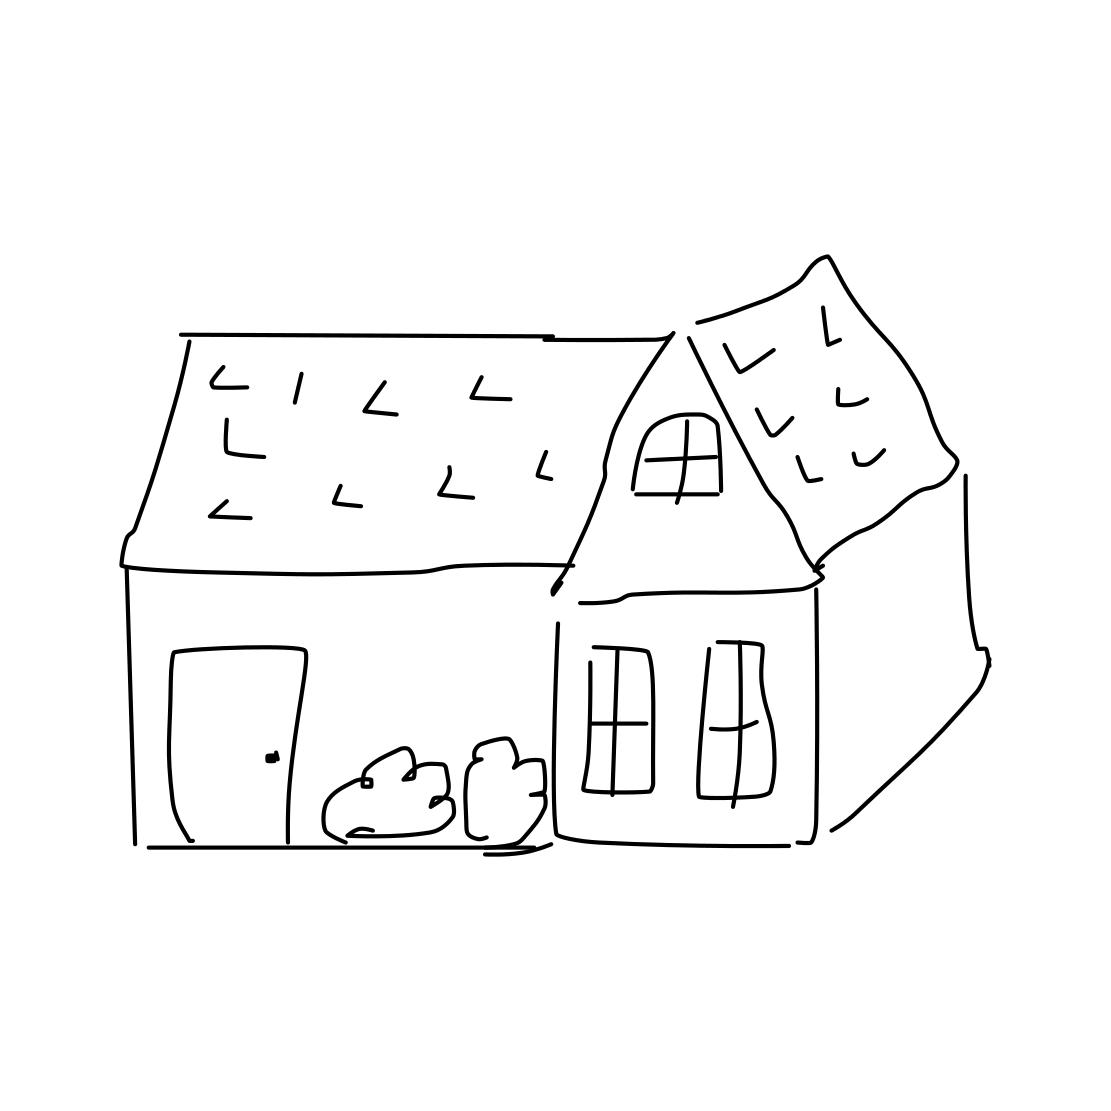House: (87, 239, 999, 874)
